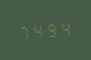four: (31, 21, 43, 40), (57, 18, 69, 37)
nine: (44, 20, 56, 38)
seven: (18, 22, 30, 41)
